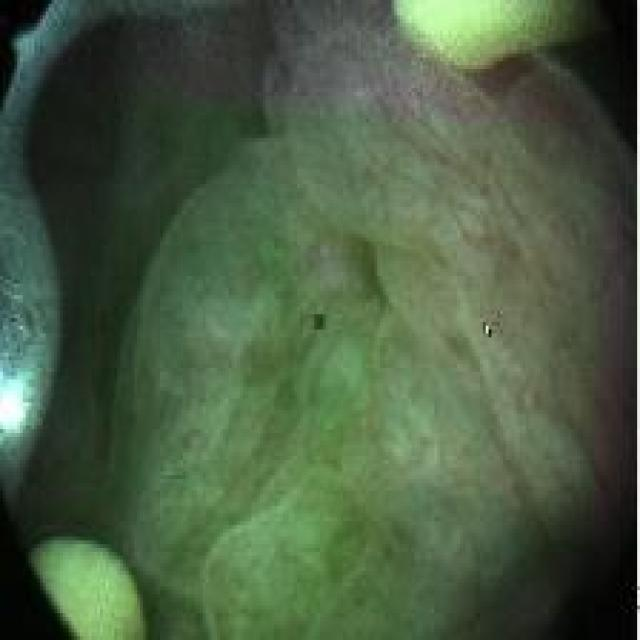color misalignment: (308, 304, 329, 337), (480, 320, 494, 339)
contrast: (33, 30, 125, 304), (475, 502, 625, 631)
instrument: (5, 10, 69, 547), (401, 5, 610, 67), (31, 537, 152, 634)
specularity: (0, 377, 29, 434)
